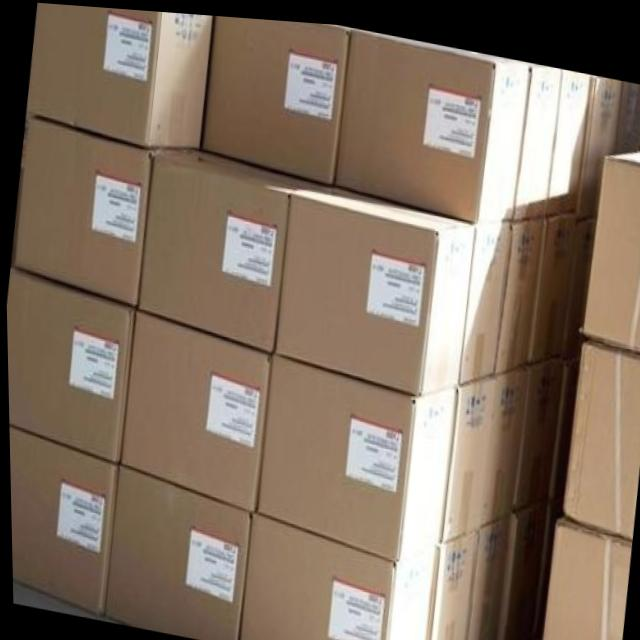box: (134, 146, 472, 349), (271, 182, 474, 389), (253, 349, 453, 558), (332, 22, 530, 217), (117, 308, 270, 507), (26, 2, 214, 150), (10, 115, 151, 308), (235, 506, 434, 640), (100, 462, 248, 640), (199, 12, 350, 179), (5, 267, 133, 462), (7, 425, 117, 616), (558, 328, 640, 532), (579, 140, 640, 342), (538, 505, 629, 640), (438, 367, 493, 538), (458, 213, 511, 379), (473, 356, 526, 522), (509, 344, 562, 503), (491, 490, 546, 640), (511, 54, 561, 213), (493, 210, 543, 367), (526, 203, 576, 356), (543, 60, 591, 210), (575, 65, 623, 214), (463, 503, 509, 640), (424, 522, 473, 640), (546, 334, 580, 490), (562, 206, 594, 351), (531, 484, 561, 632), (615, 71, 640, 142)
